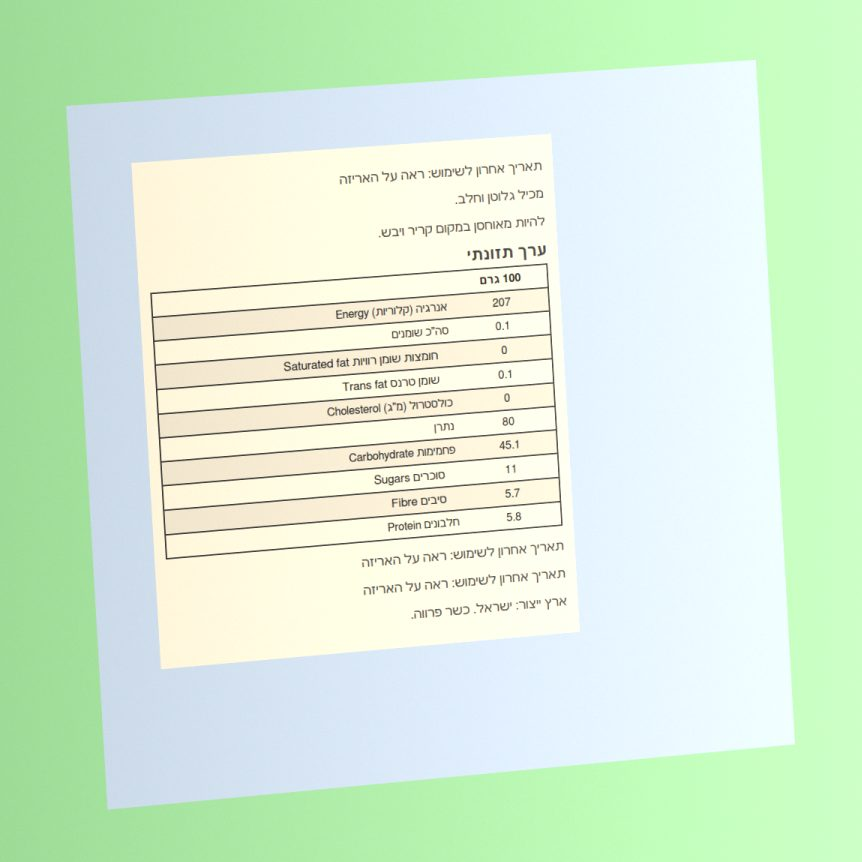carbs: (497, 437, 522, 453)
energy: (491, 295, 513, 311)
fat: (494, 319, 512, 334)
protein: (505, 510, 523, 525)
